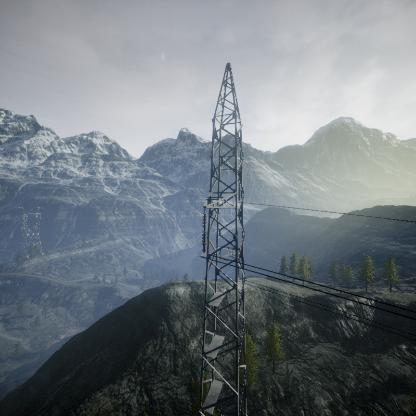tower: (195, 60, 255, 416), (17, 204, 47, 262)
